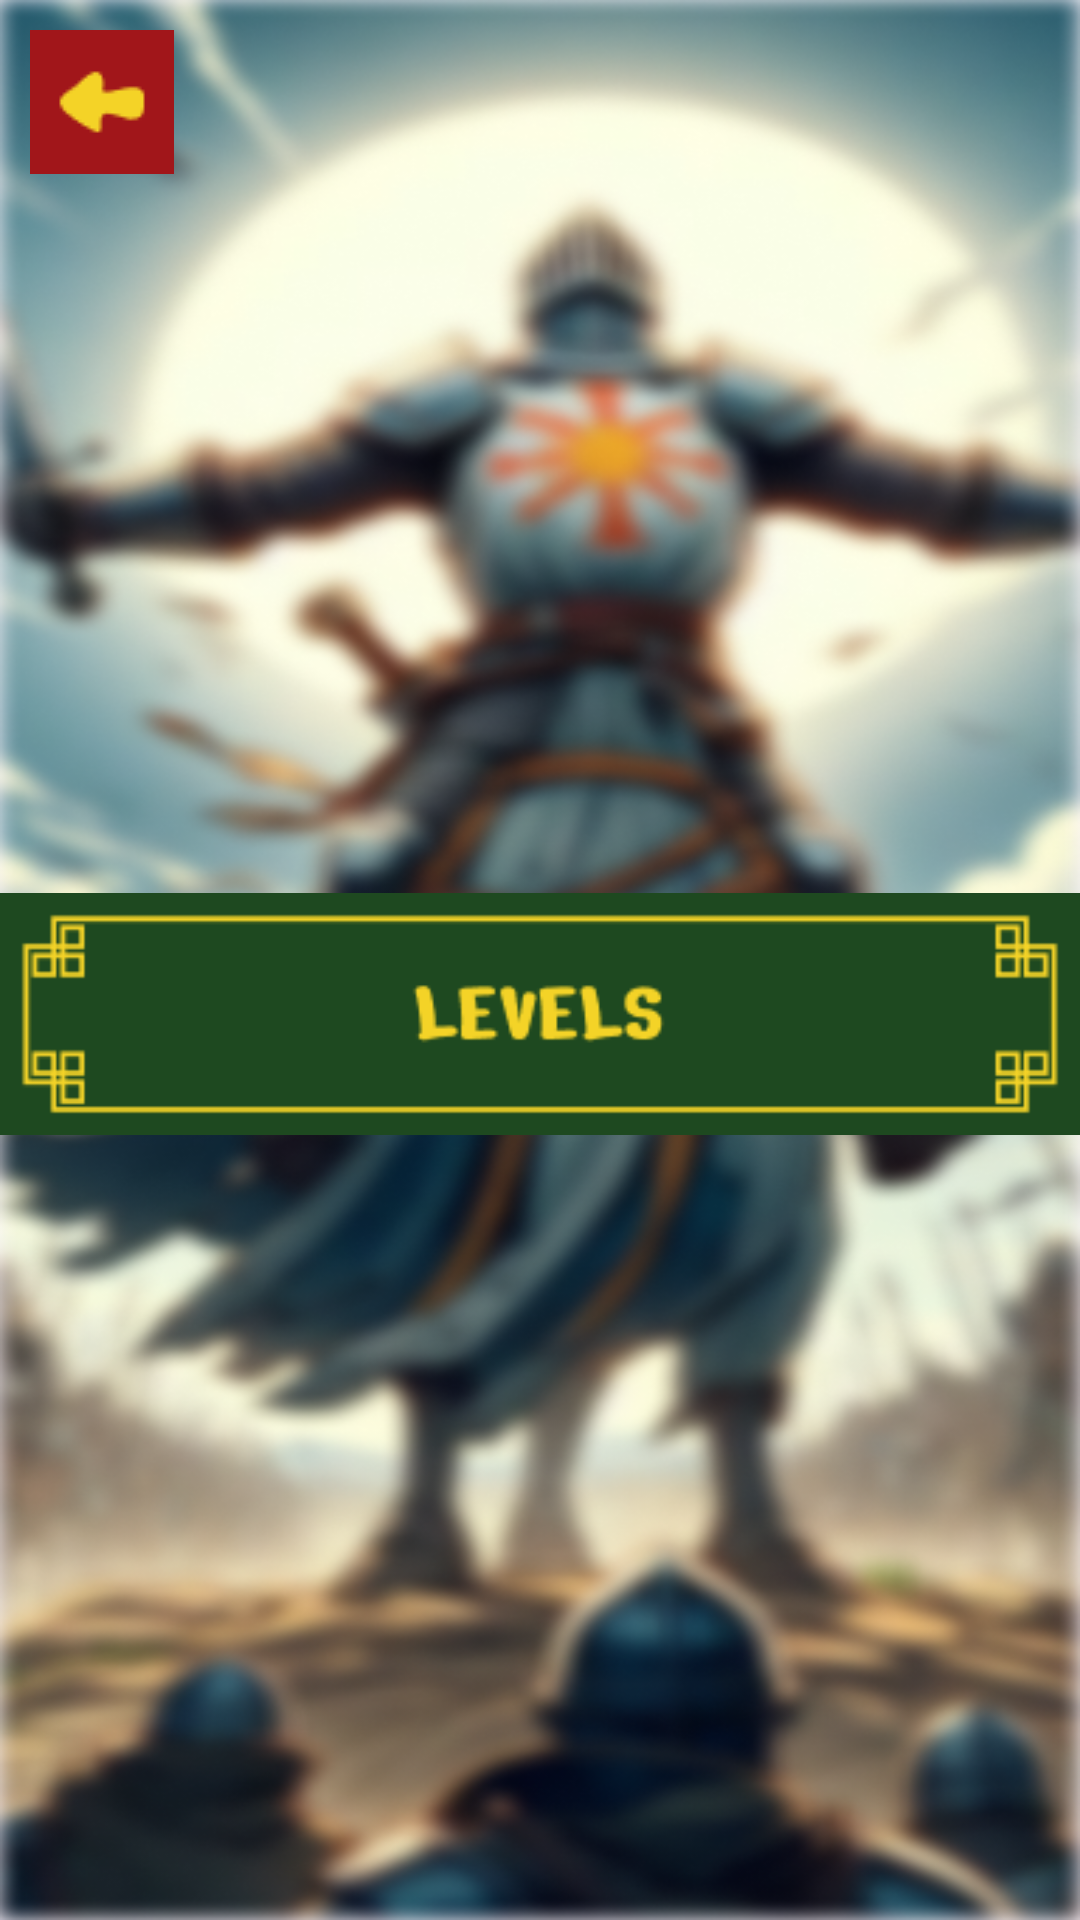

Named icons in this screenshot (1080×1920) and their centers, (x,y):
backbtn: (102,102)
